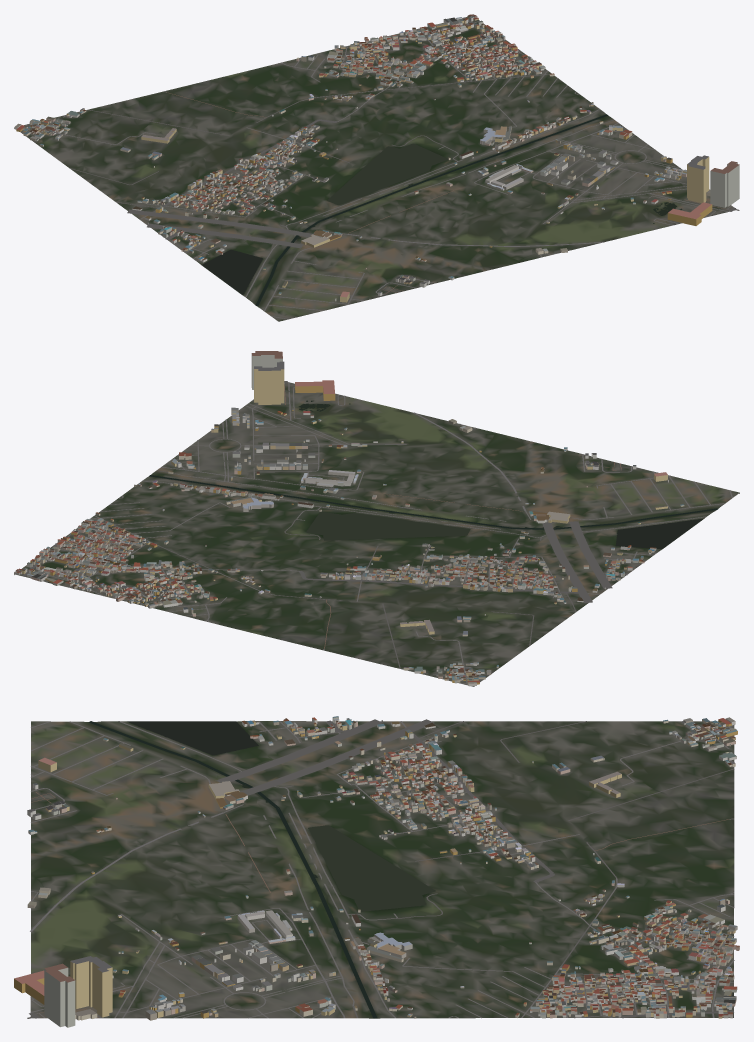
The picture shows the model from 3 angles, top to bottom: view 1: azimuth 30°, elevation 25°; view 2: azimuth 150°, elevation 25°; view 3: azimuth 270°, elevation 25°; orthographic projection. The views are drawn at different scales.
Parts seen in each view (by area): view 1: ground, buildings, roads, water; view 2: ground, buildings, roads, water; view 3: ground, buildings, roads, water.
Part boxes in pixels (<box>): ground: <box>14,17,736,321</box>; buildings: <box>14,14,739,302</box>; roads: <box>25,17,739,319</box>; water: <box>202,114,682,305</box>; ground: <box>14,382,739,686</box>; buildings: <box>14,351,684,686</box>; roads: <box>22,381,732,685</box>; water: <box>47,400,717,583</box>; ground: <box>30,721,734,1018</box>; buildings: <box>14,716,739,1027</box>; roads: <box>27,719,734,1018</box>; water: <box>88,721,733,1018</box>.
Size of the model in its own units: 1453 by 103 by 1447.
